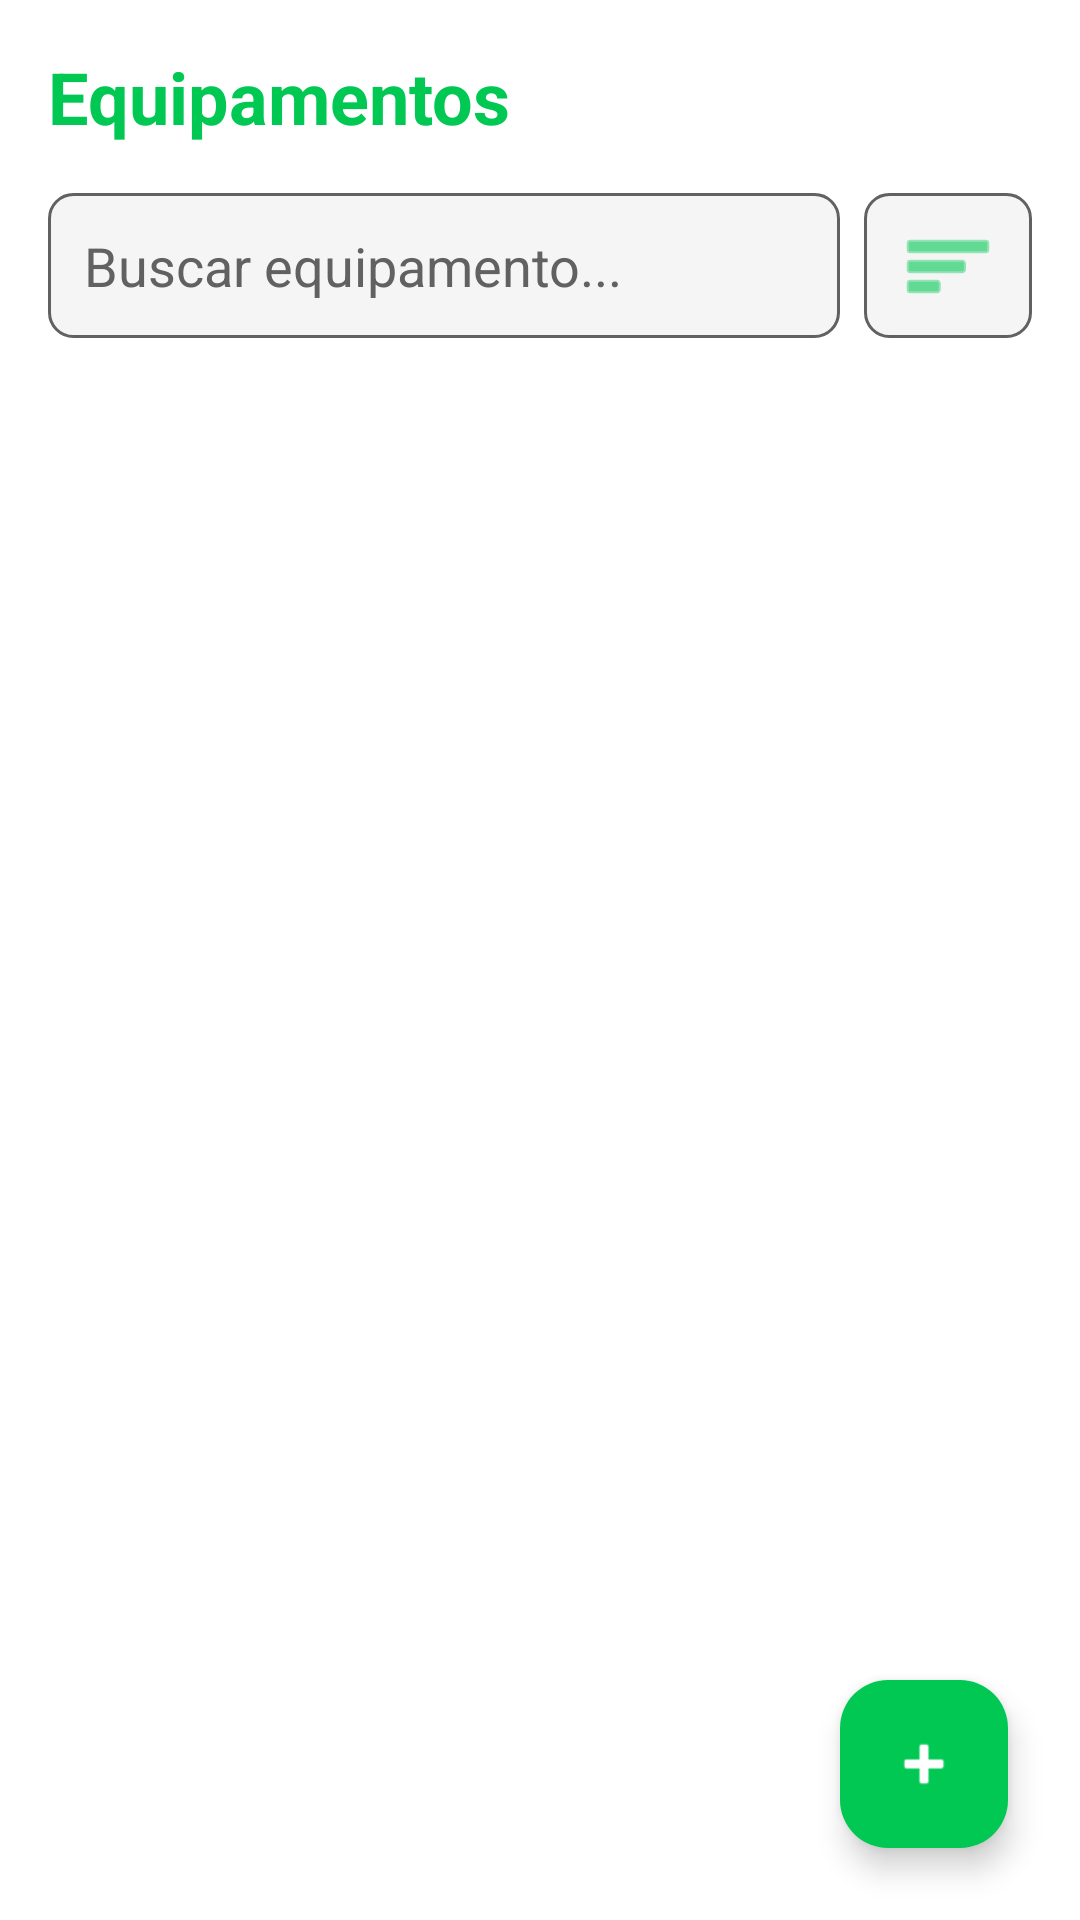

Screen size 1080 × 1920. Icon name, then its center in pixels as (x=x, y=y):
add: (x=924, y=1764)
sort by size: (x=948, y=265)
